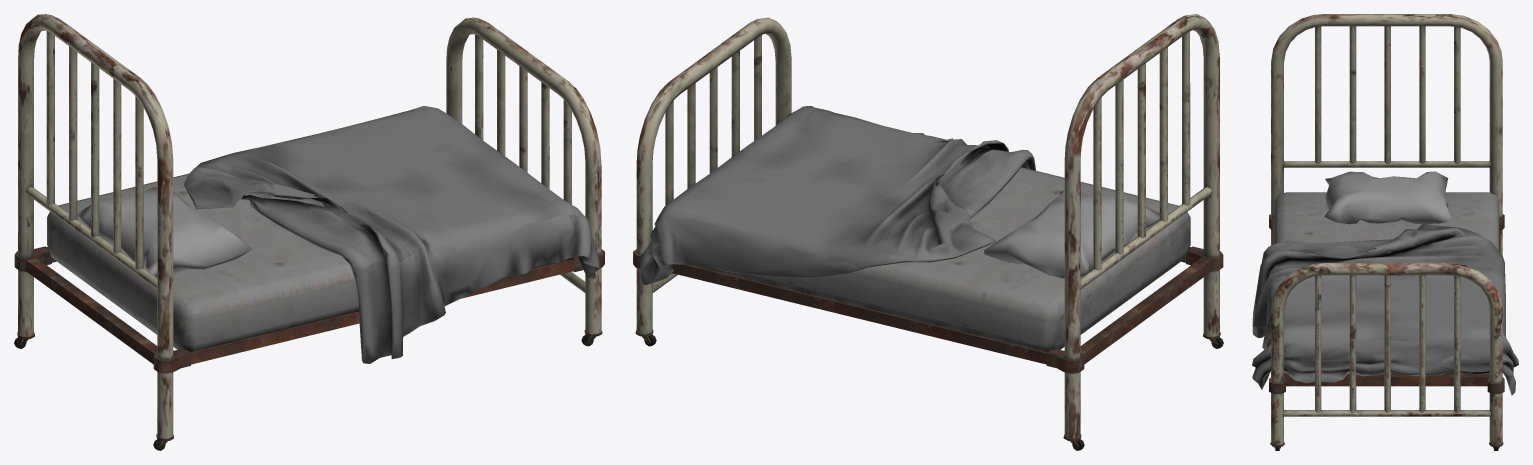
The model's file is p_bed_metal.glb.
3 renders of one model, left to right at view 1: azimuth 30°, elevation 25°; view 2: azimuth 150°, elevation 25°; view 3: azimuth 270°, elevation 25°, orthographic. The views are drawn at different scales.
Parts seen in each view (by area): view 1: low_Pillow_1; view 2: low_Pillow_1; view 3: low_Pillow_1.
Part boxes in pixels (x1,y1,x2,y2): low_Pillow_1: [14, 14, 604, 450]; low_Pillow_1: [633, 14, 1223, 450]; low_Pillow_1: [1252, 14, 1518, 450].
Size of the model in its own units: 187 by 139 by 123.
Materials: 3 (2 with a texture image).
